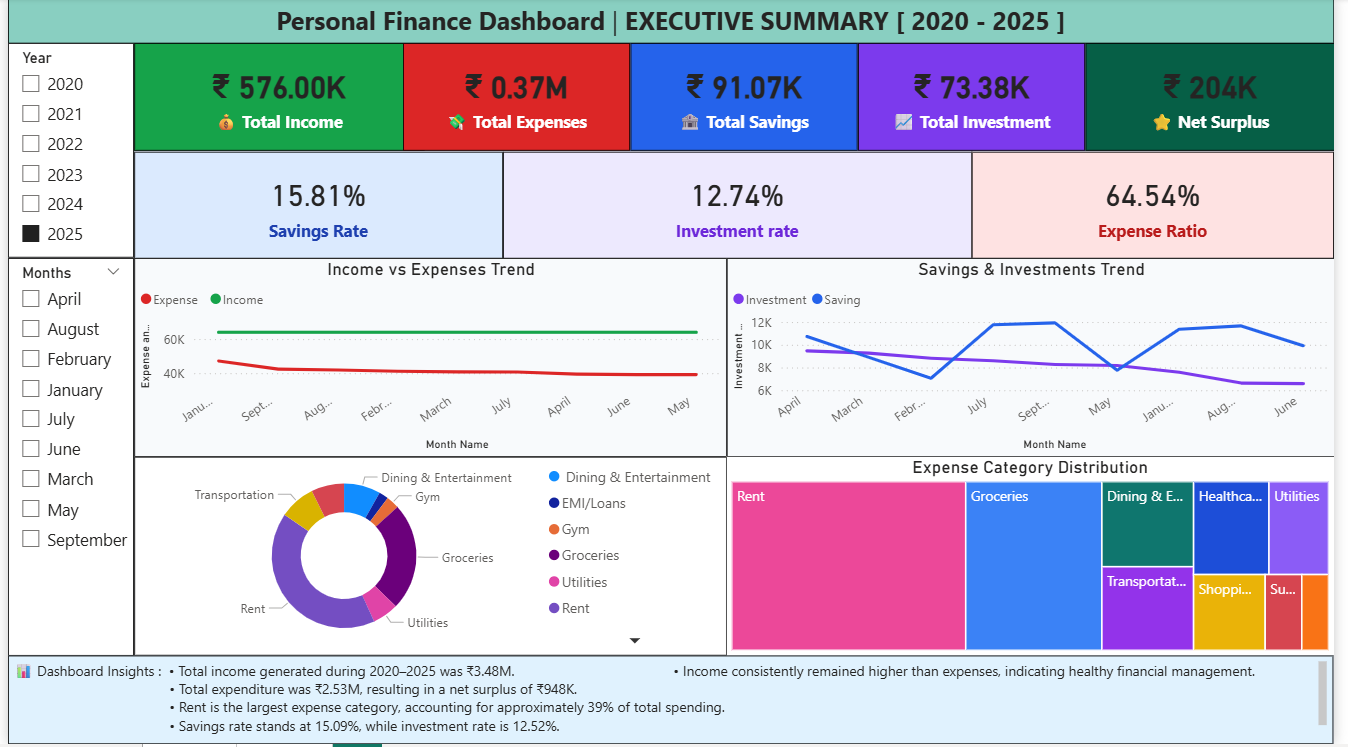

Layout of this report page (visuals, bound fields, positions):
{"tool":"powerbi","page":{"name":"Page 1","canvas":[1280,720],"ordinal":0},"visuals":[{"type":"textbox","box":[0,0,1280.3,43.9],"z":0},{"type":"slicer","fields":{"Values":["monthly_spending_dataset_2020_2.Month Name"]},"box":[0,250.8,121.6,383.7],"z":1000},{"type":"slicer","fields":{"Values":["monthly_spending_dataset_2020_2.Year"]},"box":[0,43.9,121.6,206.9],"z":2000},{"type":"card","fields":{"Values":["monthly_spending_dataset_2020_2.Total Income"]},"box":[121.6,43.9,279.6,104.1],"z":3000},{"type":"card","fields":{"Values":["monthly_spending_dataset_2020_2.Total Expenses"]},"box":[381.2,43.9,219.4,104.1],"z":4000},{"type":"card","fields":{"Values":["monthly_spending_dataset_2020_2.Total Savings"]},"box":[600.6,43.9,219.4,104.1],"z":5000},{"type":"card","fields":{"Values":["monthly_spending_dataset_2020_2.Total Investment"]},"box":[820.1,43.9,219.4,104.1],"z":6000},{"type":"card","fields":{"Values":["monthly_spending_dataset_2020_2.Net Surplus"]},"box":[1039.5,43.9,240.8,104.1],"z":7000},{"type":"card","fields":{"Values":["monthly_spending_dataset_2020_2.Savings Rate"]},"box":[121.6,148,356.1,102.8],"z":8000},{"type":"card","fields":{"Values":["monthly_spending_dataset_2020_2.Investment rate"]},"box":[477.7,148,452.7,102.8],"z":9000},{"type":"card","fields":{"Values":["monthly_spending_dataset_2020_2.Expense Ratio"]},"box":[930.4,148,349.8,102.8],"z":10000},{"type":"lineChart","title":"Income vs Expenses Trend","fields":{"Y":["Sum(monthly_spending_dataset_2020_2.Total Expenditure (竄ｹ))","Sum(monthly_spending_dataset_2020_2.Income (竄ｹ))"],"Category":["monthly_spending_dataset_2020_2.Month Name"]},"box":[121.6,250.8,571.8,191.9],"z":11000},{"type":"lineChart","title":"Savings & Investments Trend","fields":{"Y":["Sum(monthly_spending_dataset_2020_2.Investments (竄ｹ))","Sum(monthly_spending_dataset_2020_2.Savings (竄ｹ))"],"Category":["monthly_spending_dataset_2020_2.Month Name"]},"box":[693.4,250.8,586.8,191.9],"z":12000},{"type":"donutChart","fields":{"Y":["Sum(monthly_spending_dataset_2020_2.Dining & Entertainment (竄ｹ))","Sum(monthly_spending_dataset_2020_2.EMI/Loans (竄ｹ))","Sum(monthly_spending_dataset_2020_2.Gym (竄ｹ))","Sum(monthly_spending_dataset_2020_2.Groceries (竄ｹ))","Sum(monthly_spending_dataset_2020_2.Utilities (竄ｹ))","Sum(monthly_spending_dataset_2020_2.Rent (竄ｹ))","Sum(monthly_spending_dataset_2020_2.Transportation (竄ｹ))","Sum(monthly_spending_dataset_2020_2.Healthcare (竄ｹ))"]},"box":[121.6,442.6,571.8,191.9],"z":13000},{"type":"treemap","title":"Expense Category Distribution","fields":{"Values":["Sum(monthly_spending_dataset_2020_2.Groceries (竄ｹ))","Sum(monthly_spending_dataset_2020_2.Healthcare (竄ｹ))","Sum(monthly_spending_dataset_2020_2.EMI/Loans (竄ｹ))","Sum(monthly_spending_dataset_2020_2.Transportation (竄ｹ))","Sum(monthly_spending_dataset_2020_2.Rent (竄ｹ))","Sum(monthly_spending_dataset_2020_2.Utilities (竄ｹ))","Sum(monthly_spending_dataset_2020_2.Shopping & Wants (竄ｹ))","Sum(monthly_spending_dataset_2020_2.Gym (竄ｹ))","Sum(monthly_spending_dataset_2020_2.Dining & Entertainment (竄ｹ))"]},"box":[694,443,586,192],"z":14000},{"type":"textbox","box":[0,634.5,1279,85.3],"z":15000}]}

Visuals, with their boxes in screenshot pixels (x1, y1, x2, y2), scaled from the page's 1280x720 canvas onto the 1348x747 screenshot:
textbox: left=0, top=0, right=1347, bottom=46
slicer - monthly_spending_dataset_2020_2.Month Name: left=0, top=260, right=128, bottom=658
slicer - monthly_spending_dataset_2020_2.Year: left=0, top=46, right=128, bottom=260
card - monthly_spending_dataset_2020_2.Total Income: left=128, top=46, right=423, bottom=154
card - monthly_spending_dataset_2020_2.Total Expenses: left=401, top=46, right=633, bottom=154
card - monthly_spending_dataset_2020_2.Total Savings: left=633, top=46, right=864, bottom=154
card - monthly_spending_dataset_2020_2.Total Investment: left=864, top=46, right=1095, bottom=154
card - monthly_spending_dataset_2020_2.Net Surplus: left=1095, top=46, right=1347, bottom=154
card - monthly_spending_dataset_2020_2.Savings Rate: left=128, top=154, right=503, bottom=260
card - monthly_spending_dataset_2020_2.Investment rate: left=503, top=154, right=980, bottom=260
card - monthly_spending_dataset_2020_2.Expense Ratio: left=980, top=154, right=1347, bottom=260
"Income vs Expenses Trend" lineChart: left=128, top=260, right=730, bottom=459
"Savings & Investments Trend" lineChart: left=730, top=260, right=1347, bottom=459
donutChart - Sum(monthly_spending_dataset_2020_2.Dining & Entertainment (竄ｹ)) x Sum(monthly_spending_dataset_2020_2.EMI/Loans (竄ｹ)): left=128, top=459, right=730, bottom=658
"Expense Category Distribution" treemap: left=731, top=460, right=1347, bottom=659
textbox: left=0, top=658, right=1347, bottom=746
